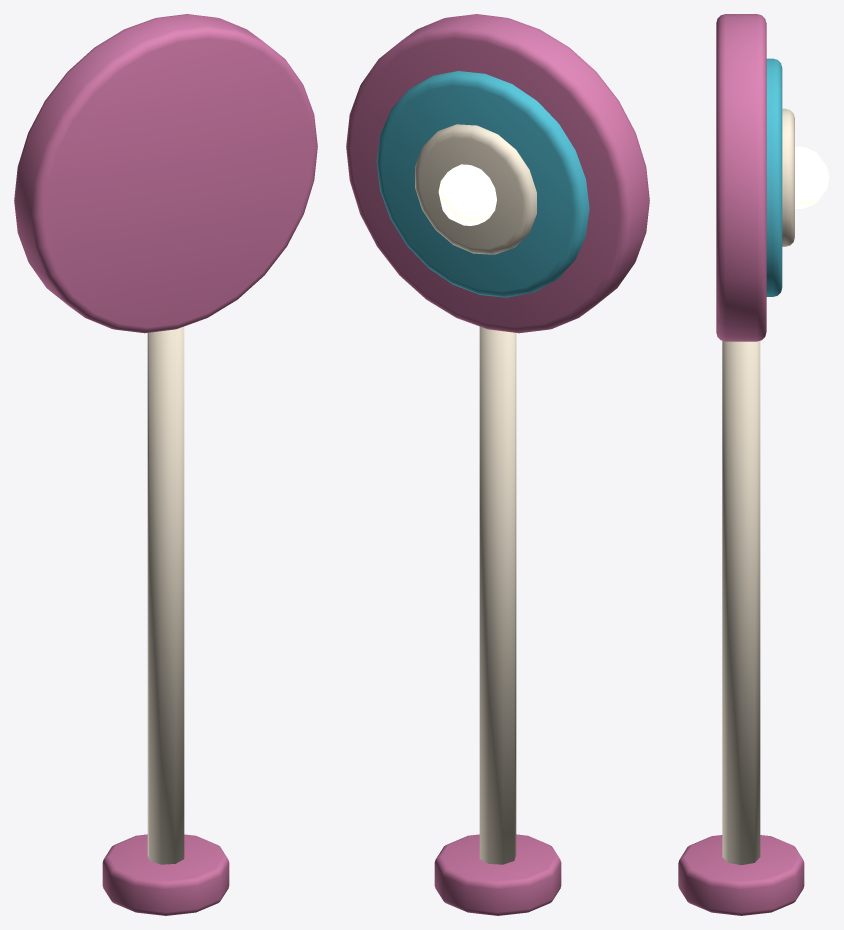
The model's file is bg_lamp.glb.
3 renders of one model, left to right at view 1: azimuth 30°, elevation 25°; view 2: azimuth 150°, elevation 25°; view 3: azimuth 270°, elevation 25°, orthographic.
Parts seen in each view (by area): view 1: M_Lamp__l_pink, M_Lamp__l_cream; view 2: M_Lamp__l_pink, M_Lamp__l_cream, M_Lamp__l_aqua, M_Lamp__l_glow; view 3: M_Lamp__l_pink, M_Lamp__l_cream, M_Lamp__l_aqua, M_Lamp__l_glow.
Boxes of the visible parts, x1,y1,x2,y2 form: M_Lamp__l_pink: (14,14,317,915); M_Lamp__l_cream: (147,326,184,864); M_Lamp__l_pink: (346,14,649,915); M_Lamp__l_cream: (415,124,536,864); M_Lamp__l_aqua: (376,71,589,297); M_Lamp__l_glow: (438,164,496,225); M_Lamp__l_pink: (678,14,804,915); M_Lamp__l_cream: (722,108,794,865); M_Lamp__l_aqua: (766,58,782,296); M_Lamp__l_glow: (795,146,829,208).
Size of the model in its own units: 1.04 by 3.02 by 0.48.
